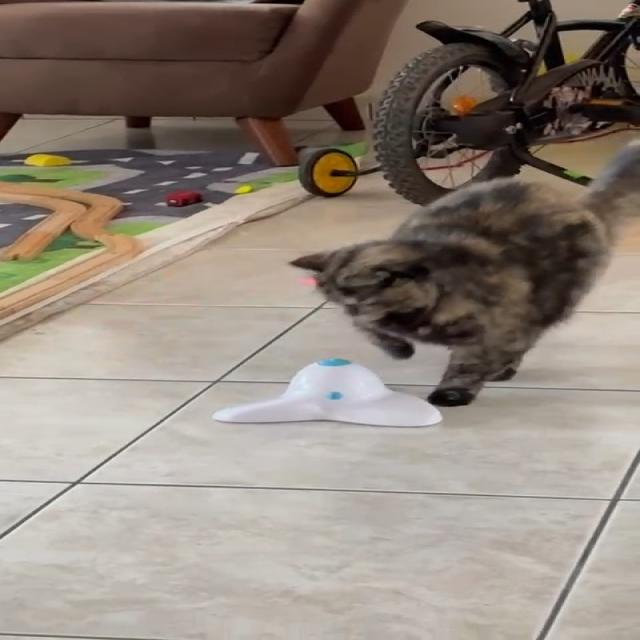authorized: (288, 138, 639, 407)
